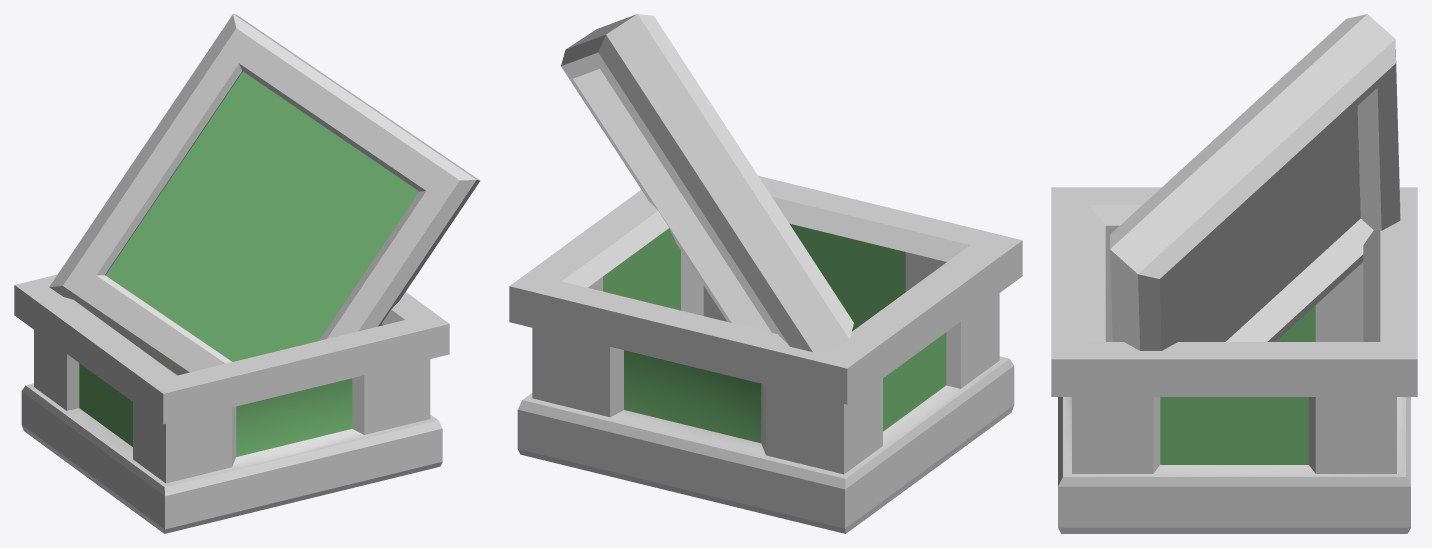
File: Destroyed_small_chest.fbx
3 renders of one model, left to right at view 1: azimuth 30°, elevation 25°; view 2: azimuth 150°, elevation 25°; view 3: azimuth 270°, elevation 25°, orthographic. The views are drawn at different scales.
Parts seen in each view (by area): view 1: polySurface1585, polySurface1584; view 2: polySurface1584, polySurface1585; view 3: polySurface1584, polySurface1585.
Part boxes in pixels (x1=…): polySurface1585: x1=49, y1=14, x2=480, y2=375; polySurface1584: x1=14, y1=274, x2=449, y2=533; polySurface1584: x1=509, y1=176, x2=1022, y2=533; polySurface1585: x1=561, y1=14, x2=853, y2=352; polySurface1584: x1=1051, y1=187, x2=1417, y2=533; polySurface1585: x1=1110, y1=14, x2=1400, y2=350.
Bounding box in the file's own units: 1.19 × 1.23 × 0.8686.
